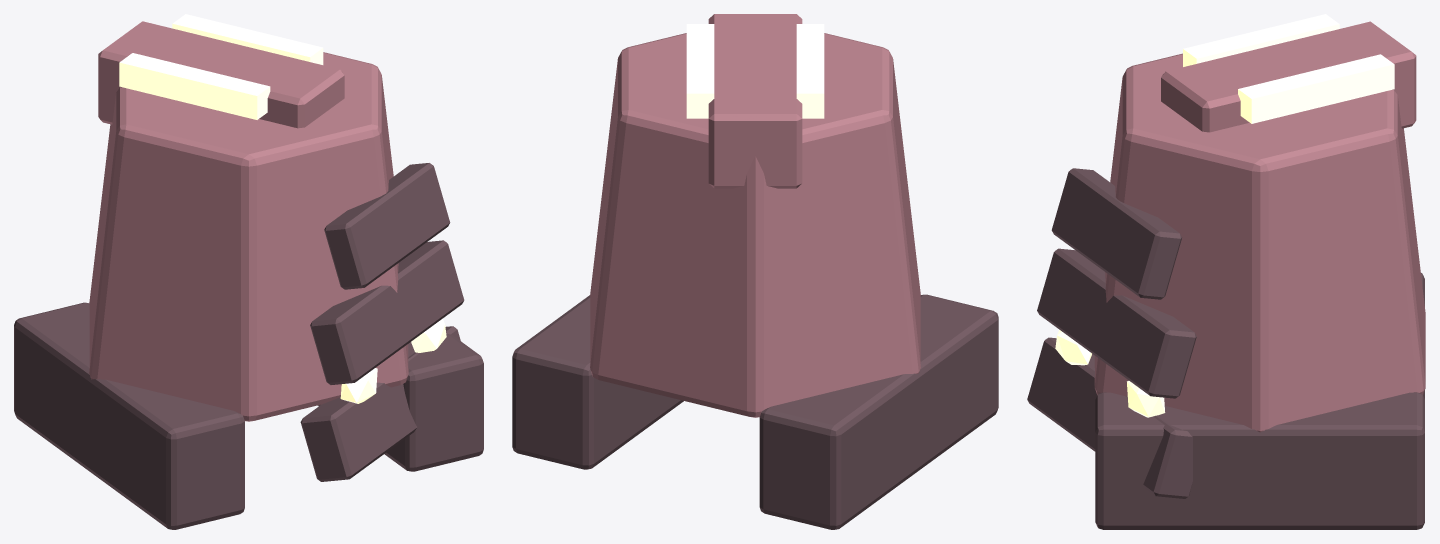
File: brute.glb
3 views of the same model, side by side, from view 1: azimuth 30°, elevation 25°; view 2: azimuth 150°, elevation 25°; view 3: azimuth 270°, elevation 25° (orthographic). The views are drawn at different scales.
Visible parts, largest first — view 1: Body, Tread, Plate2, Spine, Plate3, Vent, Plate1, Eye; view 2: Body, Tread, Spine, Vent; view 3: Body, Tread, Plate2, Spine, Plate3, Vent, Plate1, Eye.
Part boxes in pixels (x1,y1,x2,y2): Body: [89, 52, 408, 421]; Tread: [14, 302, 483, 529]; Plate2: [310, 240, 464, 384]; Spine: [98, 21, 344, 128]; Plate3: [324, 163, 450, 289]; Vent: [119, 14, 323, 119]; Plate1: [300, 326, 460, 481]; Eye: [340, 318, 446, 403]; Body: [590, 33, 920, 417]; Tread: [512, 294, 998, 529]; Spine: [708, 14, 802, 188]; Vent: [686, 24, 824, 118]; Body: [1094, 53, 1425, 432]; Tread: [1095, 273, 1424, 529]; Plate2: [1037, 248, 1196, 398]; Spine: [1161, 21, 1416, 132]; Plate3: [1051, 168, 1182, 299]; Vent: [1183, 14, 1394, 123]; Plate1: [1027, 337, 1192, 498]; Eye: [1055, 330, 1165, 417].
Size of the model in its own units: 1.45 by 1.56 by 1.45.
